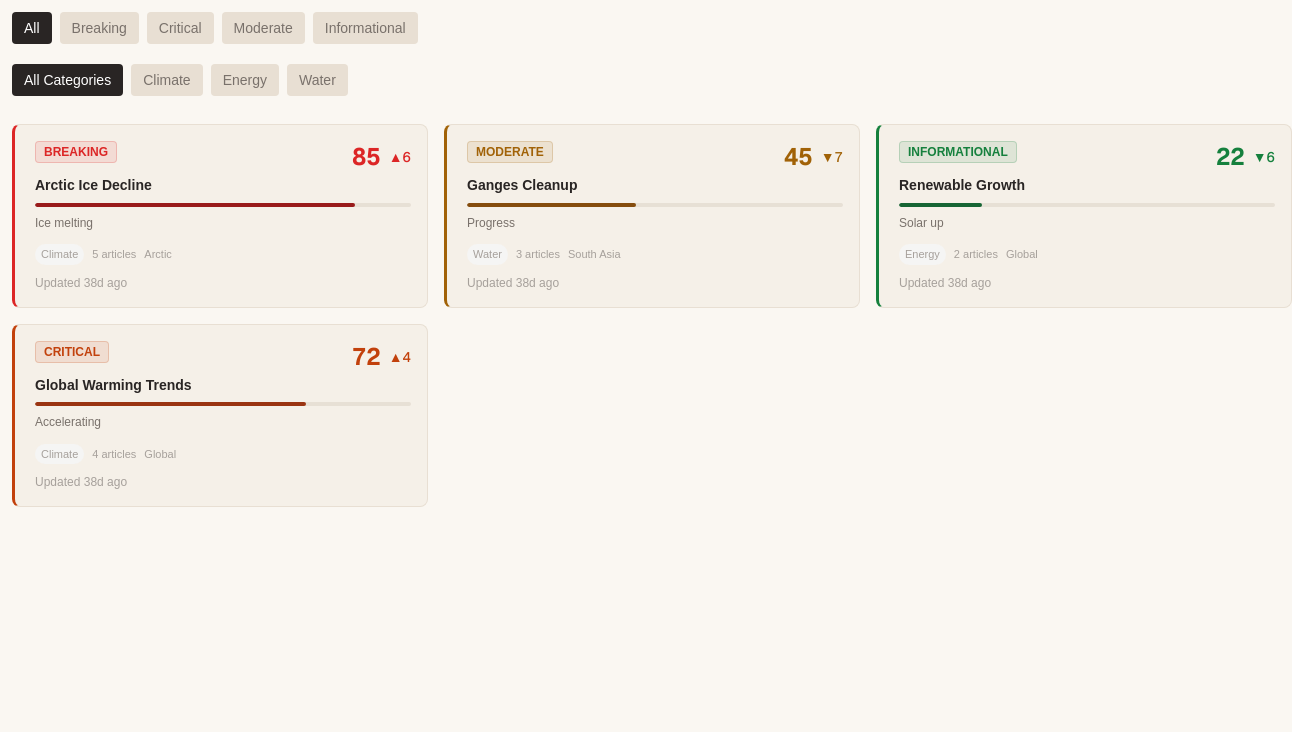
Test case: TopicGrid › combined urgency + category filtering works
The image size is (1292, 732).
Expected: the heading "Arctic Ice Decline" is shown, [35,177,152,193]
// Filter by climate category (client-side) — should show 2 climate topics
Click the button with test id "filter-category-climate".
click(167, 80)  # box [131,64,203,96]
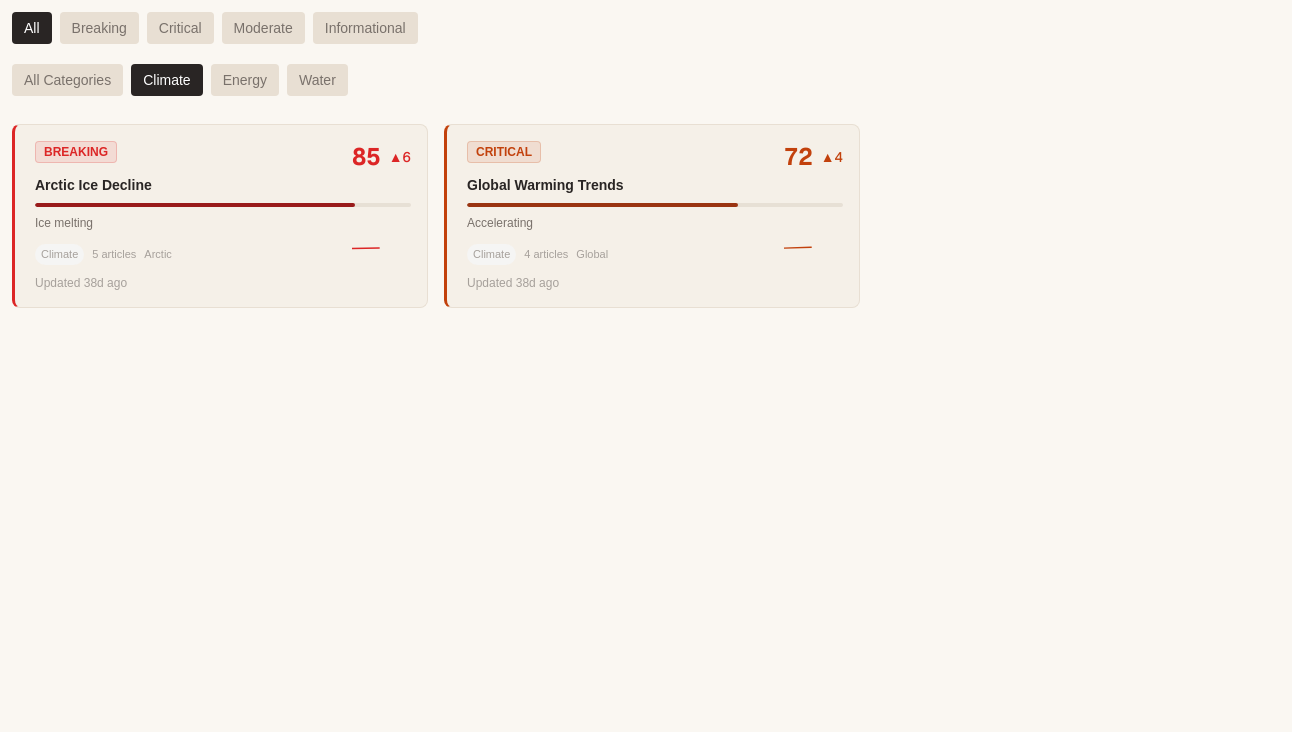
Expected: the heading "Arctic Ice Decline" is shown, [35,177,152,193]
Now the link "Ganges Cleanup" is gone
